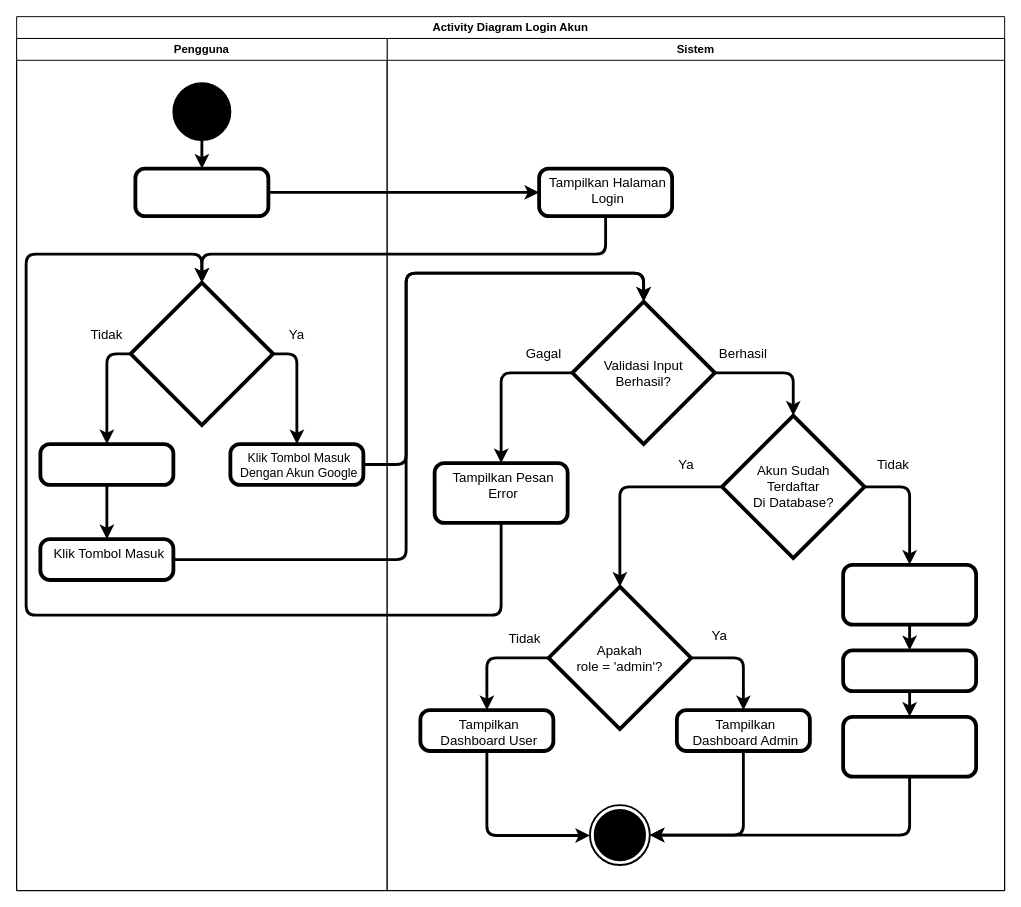
Some shapes in this 1021 by 907 pixel diagram are drawn without their labels. Here are the shapes that lost their labels. From the top down, the centre of each, then its label:
At (201,192): "Akses Halaman Login".
At (201,353): "Login OAuth?".
At (106,464): "Isi Form Email dan Password".
At (909,594): "Simpan Data User Ke Database dengan role = 'user'".
At (909,670): "Kirim Email Verifikasi".
At (909,746): "Redirect Ke Halaman Verifikasi Email".
